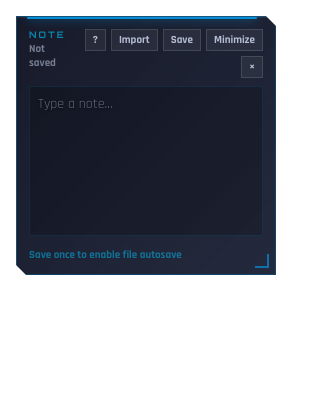
Test: NoteOverlay › shows save format choices for notes without a linked file
This screenshot has width=320, height=398.
What coordinates should you click on to do the following:
click the button titled "Save this note"
I would click on:
 (182, 40)
Its box is left=163, top=29, right=201, bottom=51.
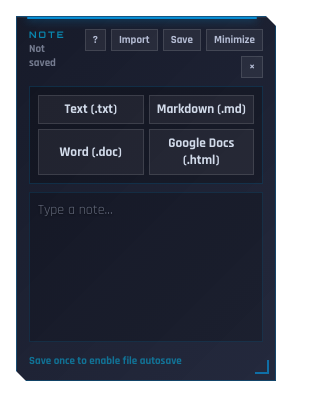
expect the button "Text (.txt)" is shown: met, box left=38, top=95, right=144, bottom=124
expect the button "Markdown (.md)" is shown: met, box left=148, top=95, right=254, bottom=124
expect the button "Word (.doc)" is shown: met, box left=38, top=129, right=144, bottom=175
